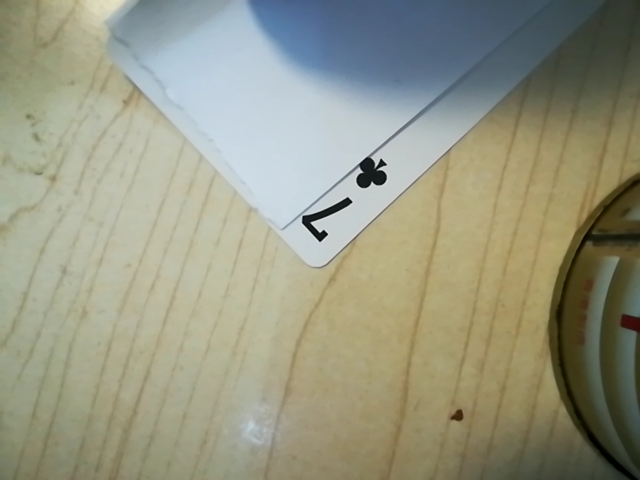mh 7: (290, 142, 405, 250)
